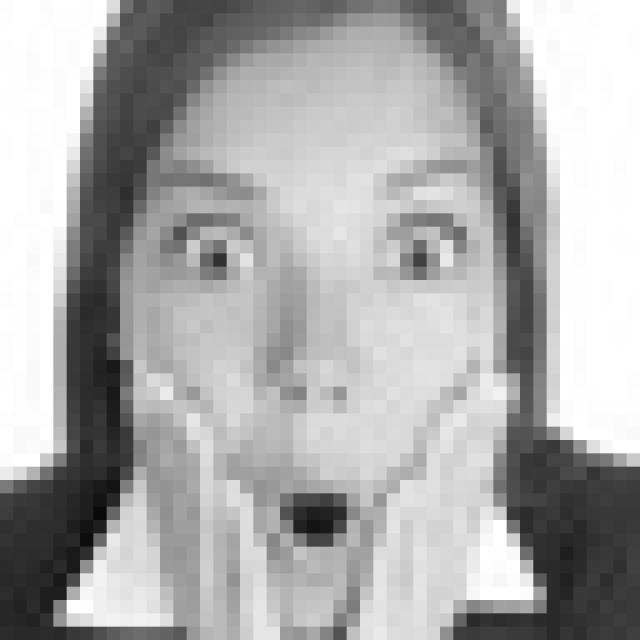surprise: (148, 160, 493, 589)
